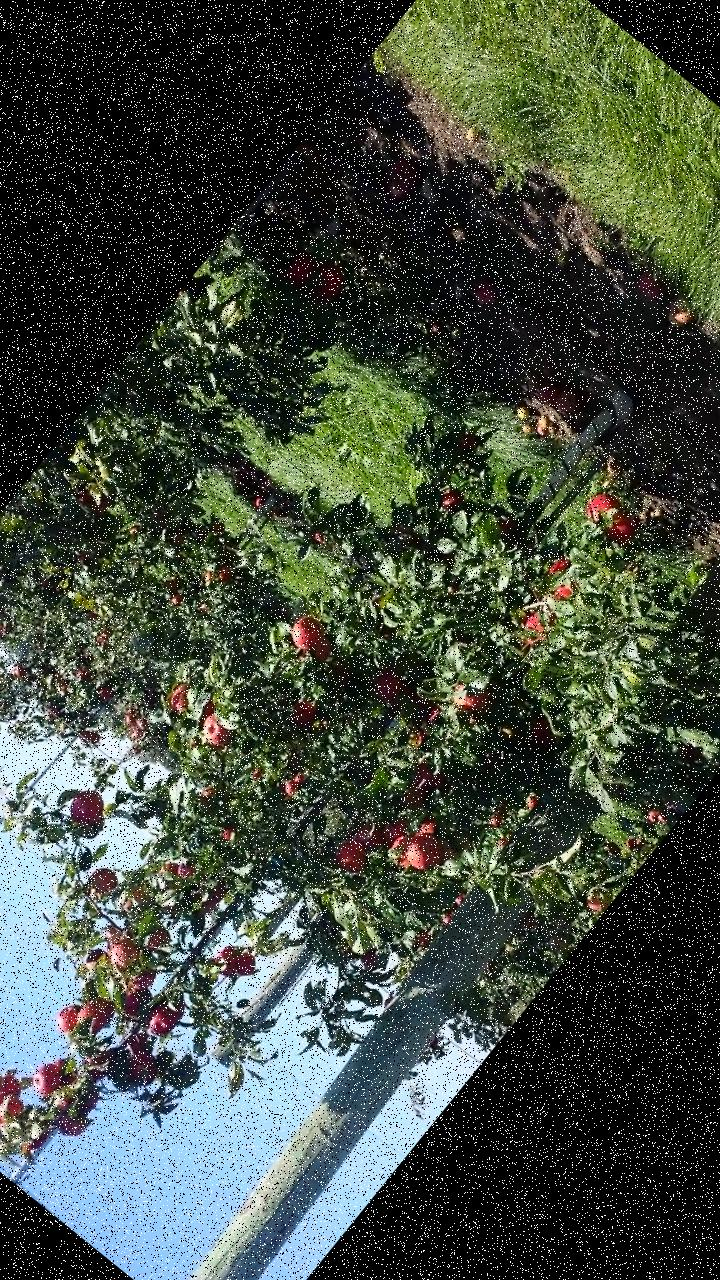Apple: (536, 553, 590, 606), (60, 782, 110, 832), (70, 989, 119, 1039), (397, 828, 446, 876), (516, 711, 563, 758), (119, 1046, 165, 1092), (444, 673, 490, 719), (579, 486, 625, 532), (416, 829, 463, 874), (383, 830, 428, 874), (328, 834, 372, 878), (282, 612, 326, 656), (98, 922, 142, 965), (74, 1042, 117, 1085), (598, 507, 640, 551), (24, 1057, 66, 1100), (403, 756, 445, 798), (70, 478, 114, 518), (514, 608, 554, 650), (308, 260, 348, 302), (48, 1104, 88, 1144), (140, 1002, 180, 1042), (103, 937, 143, 977), (194, 712, 234, 752), (48, 998, 86, 1038), (114, 980, 152, 1020), (372, 812, 410, 852), (84, 861, 122, 900), (348, 819, 386, 858), (367, 668, 405, 707), (279, 252, 316, 289), (284, 696, 320, 734), (43, 1056, 80, 1092), (138, 922, 174, 957), (432, 482, 466, 516), (208, 948, 241, 981), (163, 680, 195, 713), (396, 784, 429, 816), (0, 1070, 27, 1108), (124, 963, 156, 995), (114, 883, 146, 915), (304, 634, 336, 666), (463, 696, 494, 729), (228, 949, 260, 980), (124, 1028, 154, 1060), (188, 700, 218, 731), (490, 512, 520, 542), (158, 992, 188, 1021), (388, 684, 417, 714), (74, 1086, 102, 1117), (444, 828, 474, 856), (0, 1094, 27, 1122), (82, 944, 109, 972), (452, 430, 480, 457), (414, 814, 441, 841), (326, 662, 354, 688), (25, 1126, 50, 1154), (356, 946, 382, 972), (84, 810, 109, 836), (0, 1088, 15, 1131), (172, 857, 197, 882), (52, 1091, 76, 1117), (193, 894, 217, 920), (194, 780, 218, 805), (218, 941, 241, 965), (420, 702, 443, 726), (160, 856, 182, 878), (206, 882, 228, 904), (409, 726, 430, 748), (434, 906, 454, 928), (447, 888, 468, 908), (279, 779, 297, 798), (16, 1140, 34, 1156), (217, 826, 234, 842), (289, 771, 304, 786)
